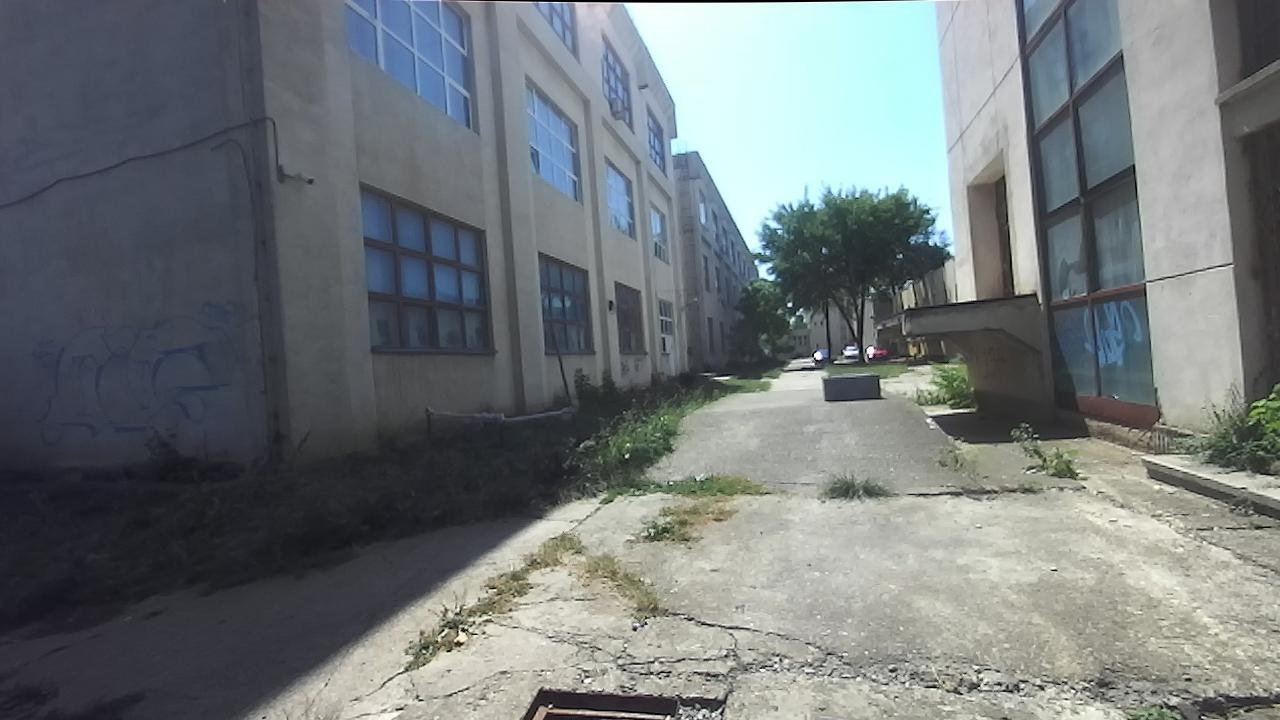drain: (510, 684, 687, 720)
